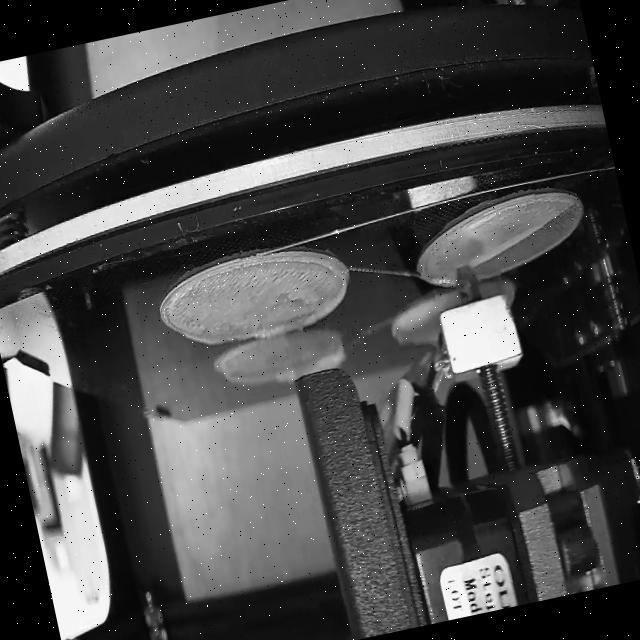over_extrusion: (238, 242, 353, 340), (464, 220, 550, 268), (270, 342, 352, 383), (220, 359, 270, 394), (184, 322, 227, 352)
